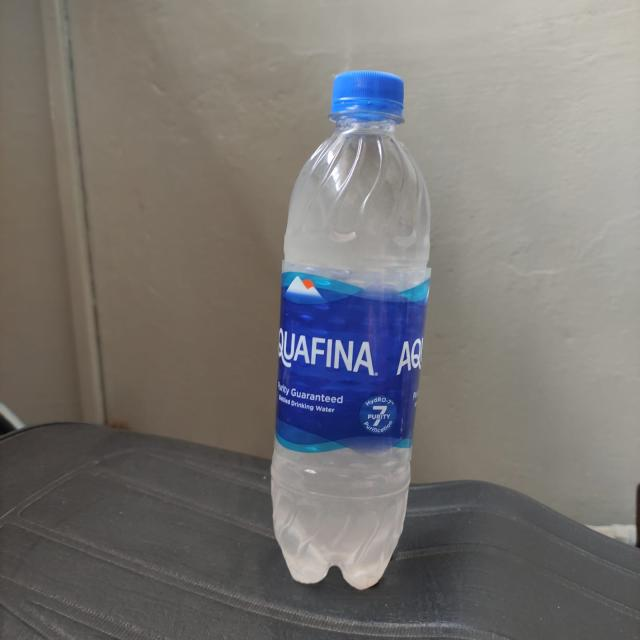bottle: (274, 61, 438, 592)
cap: (325, 65, 412, 128)
label: (280, 272, 426, 450)
